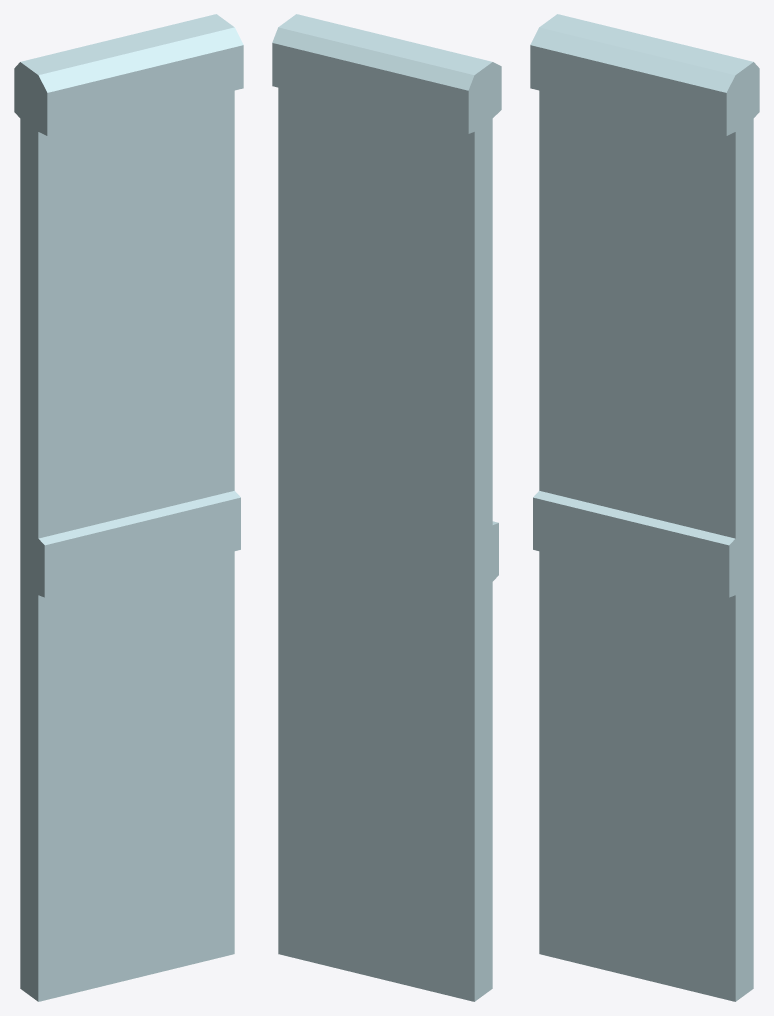
3 views of the same model, side by side, from view 1: azimuth 30°, elevation 25°; view 2: azimuth 150°, elevation 25°; view 3: azimuth 330°, elevation 25° (orthographic).
Visible parts, largest first — view 1: Object01; view 2: Object01; view 3: Object01.
Part boxes in pixels (x1=…): Object01: x1=14, y1=14, x2=243, y2=1001; Object01: x1=272, y1=14, x2=501, y2=1001; Object01: x1=530, y1=14, x2=759, y2=1001.
Size of the model in its own units: 89.72 by 405 by 26.36.
